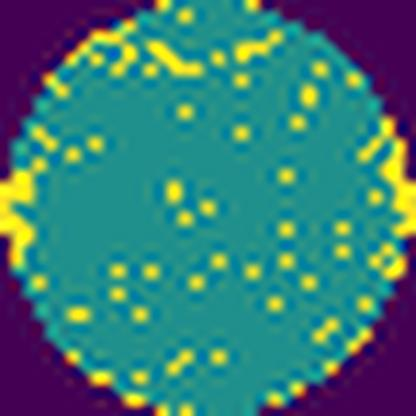Edge-Loc: (352, 112, 415, 237), (0, 152, 47, 268), (64, 17, 137, 85)
